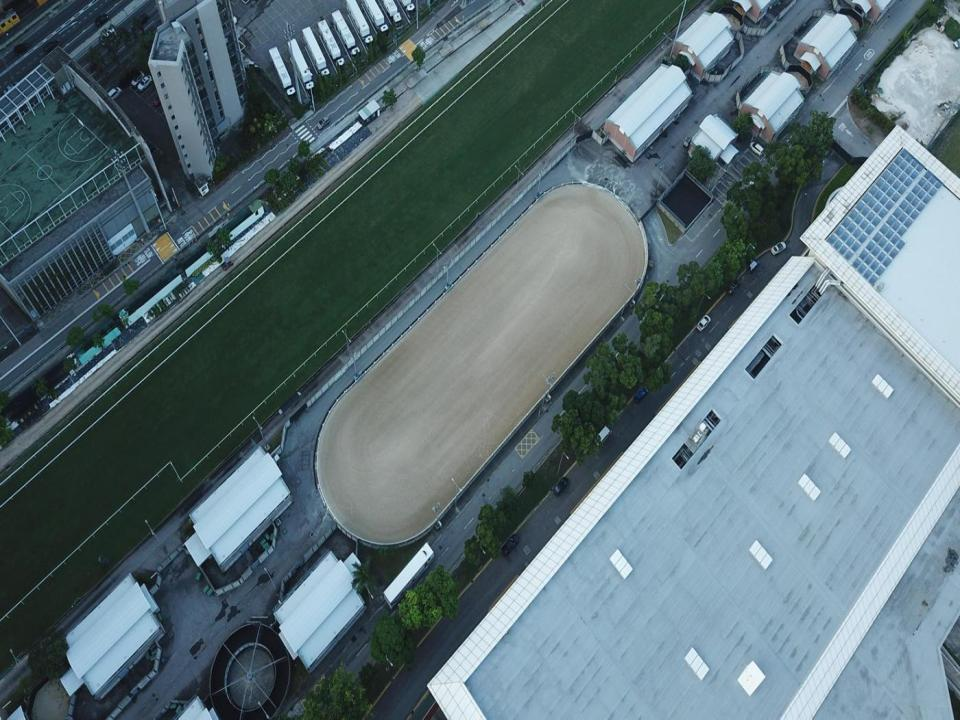car: (500, 532, 520, 556), (553, 476, 569, 495), (106, 87, 122, 104), (634, 386, 647, 403), (770, 242, 786, 255), (697, 315, 710, 331), (138, 76, 152, 90), (44, 41, 60, 53), (316, 115, 329, 129), (727, 280, 740, 294), (131, 71, 143, 86), (95, 14, 109, 26), (749, 259, 760, 272), (153, 92, 162, 107), (16, 42, 27, 53), (139, 12, 148, 24)
truck: (331, 9, 362, 62), (269, 47, 297, 103), (302, 27, 330, 82), (318, 18, 346, 73), (346, 0, 375, 51), (288, 40, 314, 92), (363, 0, 389, 37), (380, 1, 404, 33), (220, 256, 234, 270)
van: (594, 424, 612, 446), (102, 27, 116, 44)
